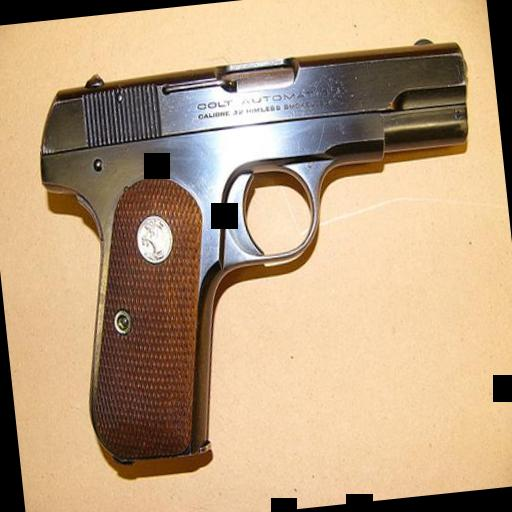Handgun: (29, 30, 502, 466)
